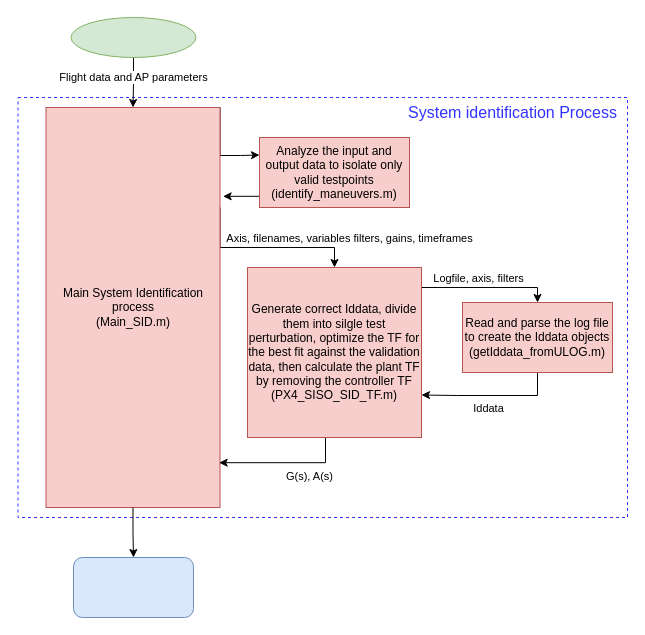
The diagram is 645 pixels wide and 635 high, and some of its shapes have lost their labels. Here are the shapes that lost their labels. From the top down, the centre of each, then its label:
(133,37): Flight Log
(133,587): SID TF model
